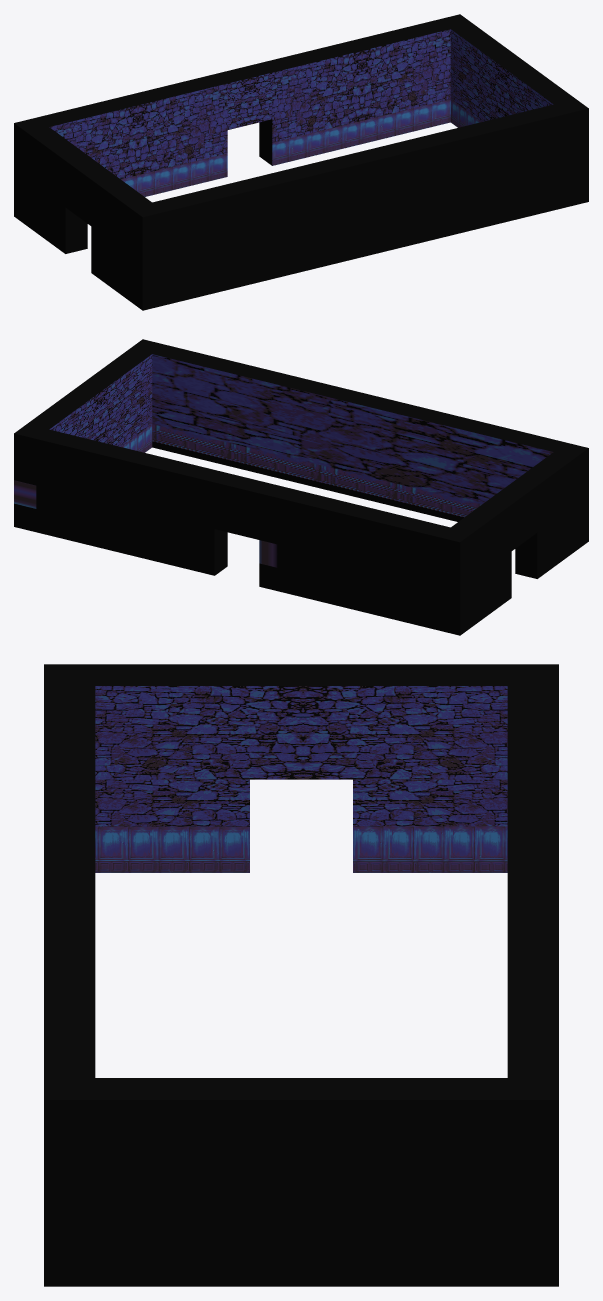
The model's file is walls_1.fbx.
The picture shows the model from 3 angles, top to bottom: view 1: azimuth 30°, elevation 25°; view 2: azimuth 150°, elevation 25°; view 3: azimuth 270°, elevation 25°; orthographic projection. The views are drawn at different scales.
Parts seen in each view (by area): view 1: WALL_01; view 2: WALL_01; view 3: WALL_01.
Part boxes in pixels (box(x1,y1,x2,y2)): WALL_01: box(14, 14, 588, 310); WALL_01: box(14, 339, 588, 635); WALL_01: box(44, 664, 558, 1286).
Bounding box in the file's own units: 4000 × 800 × 2000.
